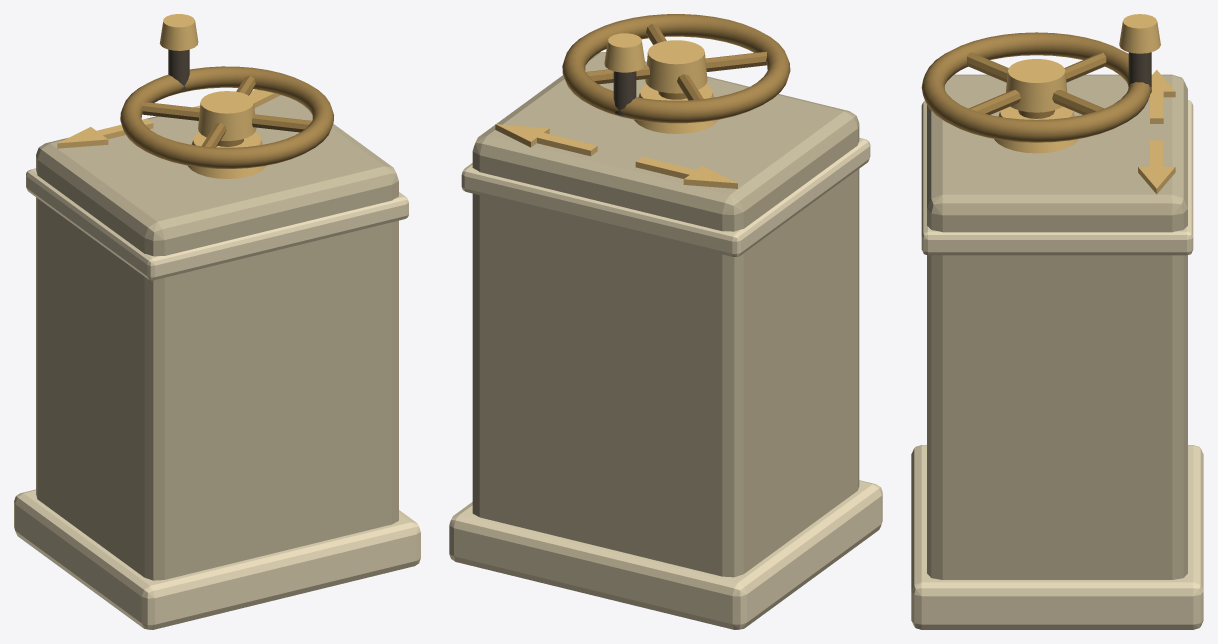
The model's file is mirror-lever-v01.glb.
The picture shows the model from 3 angles, left to right: view 1: azimuth 30°, elevation 25°; view 2: azimuth 150°, elevation 25°; view 3: azimuth 270°, elevation 25°; orthographic projection. The views are drawn at different scales.
Visible parts, largest first — view 1: Shadow sandstone 0, Shadow sandstone light 1, Shadow brass 3, Shadow brass light 2, Shadow bronze dark 4; view 2: Shadow sandstone 0, Shadow sandstone light 1, Shadow brass 3, Shadow brass light 2, Shadow bronze dark 4; view 3: Shadow sandstone 0, Shadow sandstone light 1, Shadow brass 3, Shadow brass light 2, Shadow bronze dark 4.
Boxes of the visible parts, box(x1,y1,x2,y2) form: Shadow sandstone 0: box(36, 95, 398, 580); Shadow sandstone light 1: box(14, 168, 420, 629); Shadow brass 3: box(120, 66, 333, 168); Shadow brass light 2: box(57, 14, 280, 178); Shadow bronze dark 4: box(168, 49, 189, 91); Shadow sandstone 0: box(472, 52, 859, 577); Shadow sandstone light 1: box(449, 138, 882, 629); Shadow brass 3: box(562, 14, 790, 123); Shadow brass light 2: box(495, 33, 737, 188); Shadow bronze dark 4: box(613, 71, 636, 115); Shadow sandstone 0: box(927, 74, 1187, 579); Shadow sandstone light 1: box(911, 100, 1203, 629); Shadow brass 3: box(921, 32, 1151, 142); Shadow brass light 2: box(994, 14, 1175, 194); Shadow bronze dark 4: box(1128, 52, 1151, 93).
Size of the model in its own units: 0.66 by 1.14 by 0.56.
